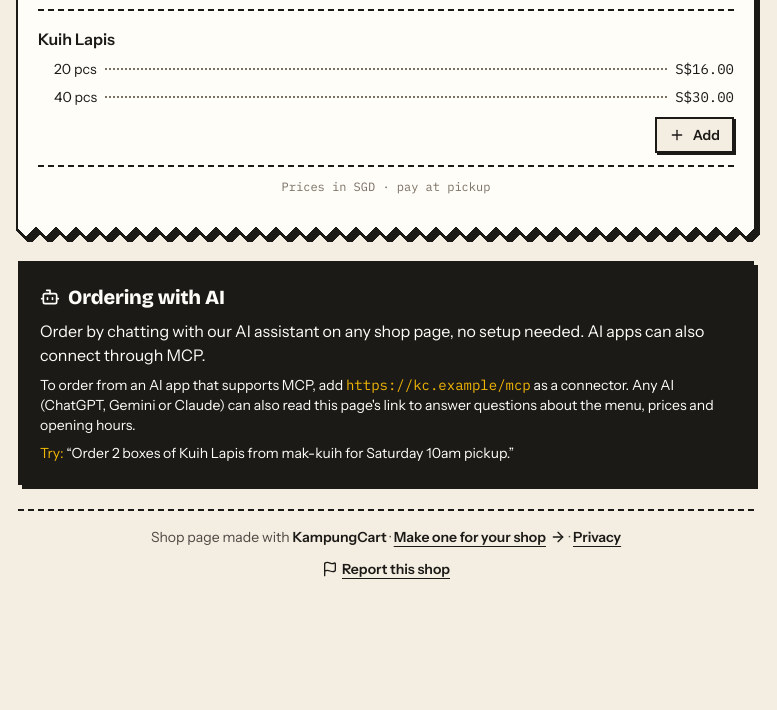
customer shop page › lets anyone report the shop
(page scrolled)
Click the button "Report this shop": [386, 569] box [322,559,450,579]
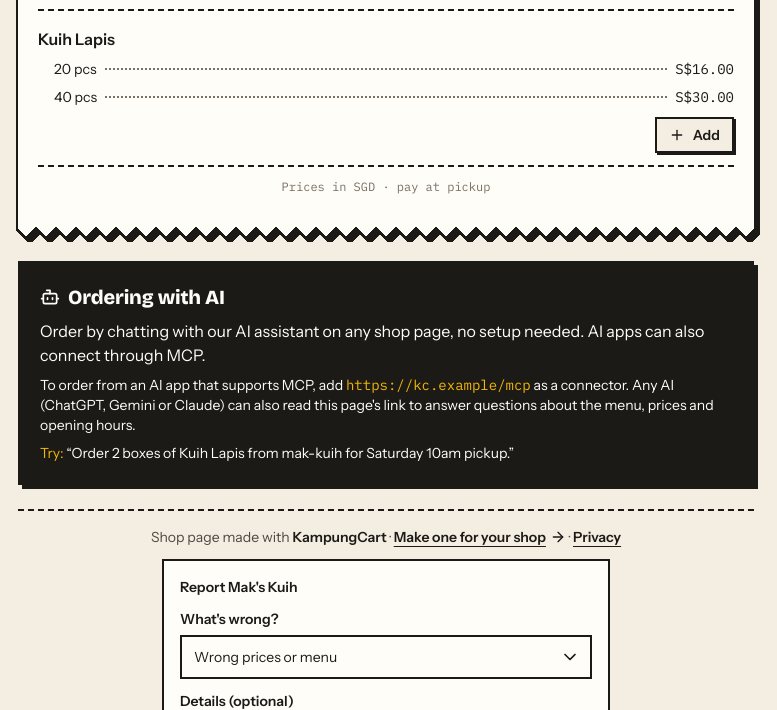
Select "Not a real shop, or a scam" in the dropdown labelled "What's wrong?": [386, 657] box [180,635,592,679]
(page scrolled)
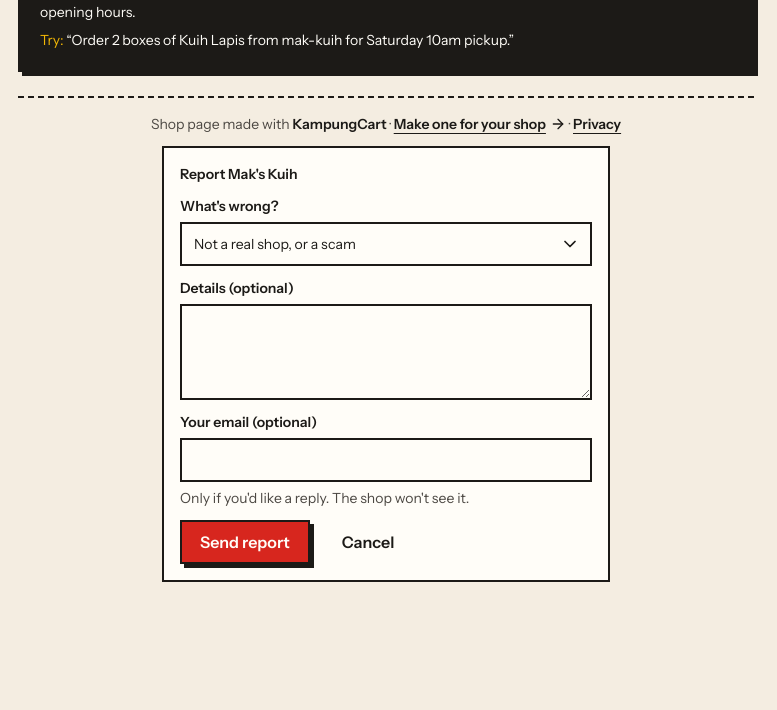
In the text box labelled "Details (optional)": [386, 352] box [180,304,592,400], type "No such shop"
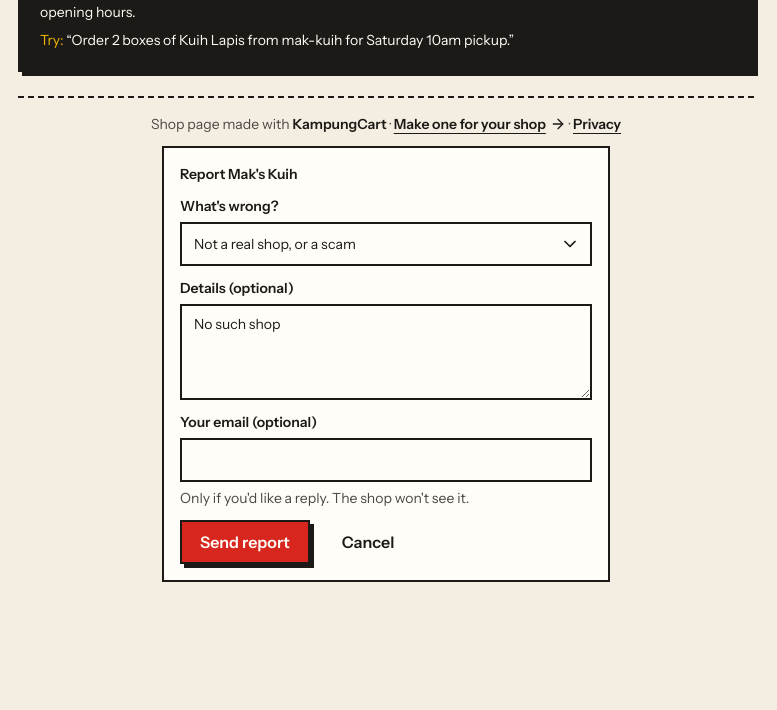
Click the button "Send report": [245, 542] box [180,520,310,564]
(page scrolled)
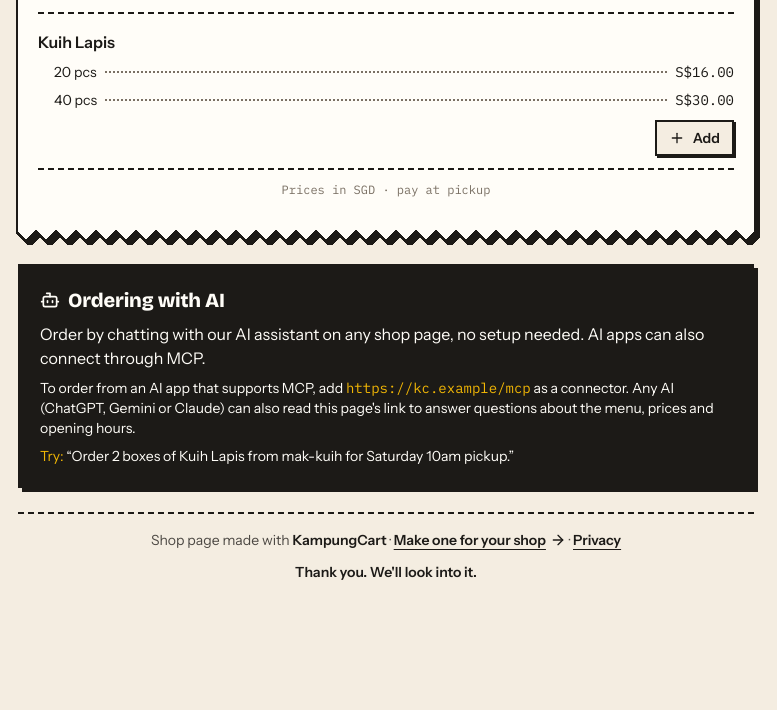
Expected: the text "Thank you. We'll look into it." is shown, [295,563,477,581]
